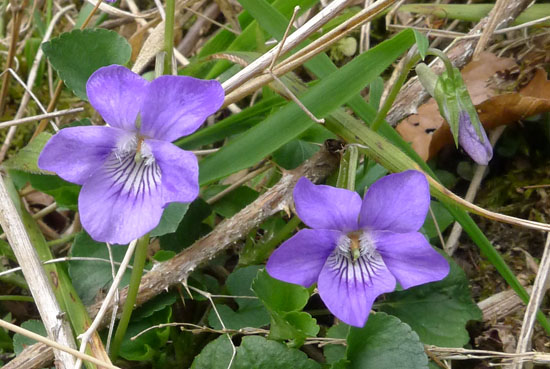violet: (41, 60, 214, 260), (270, 167, 456, 339)
